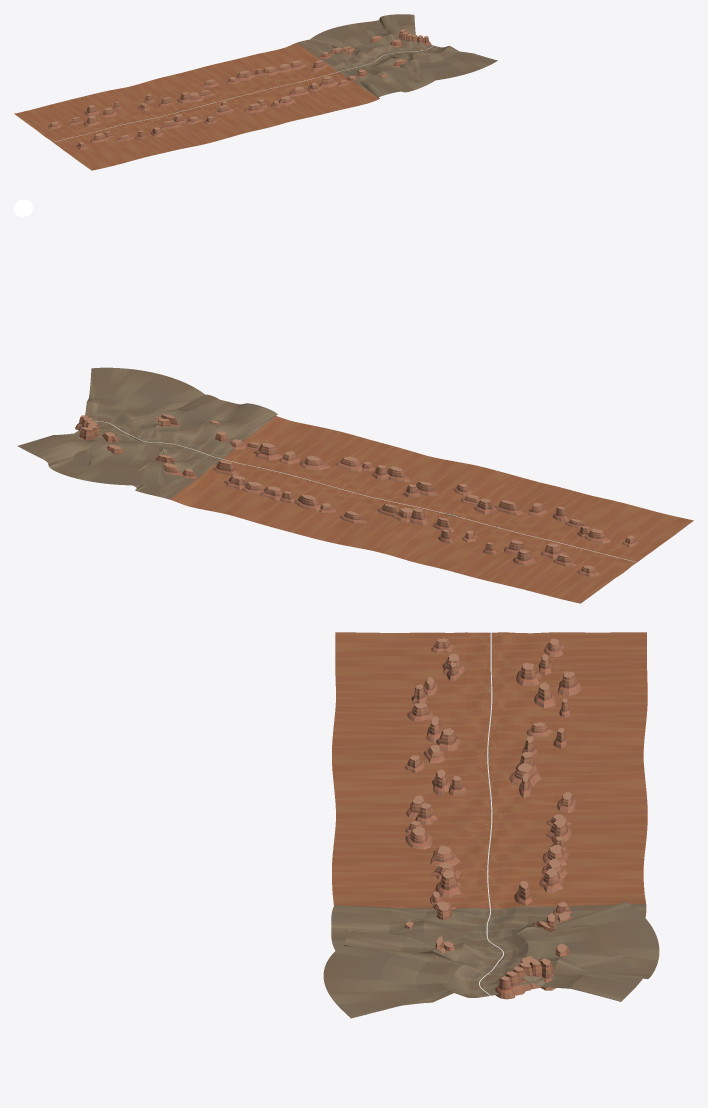
The model's file is route66.glb.
3 views of the same model, one above another, from view 1: azimuth 30°, elevation 25°; view 2: azimuth 150°, elevation 25°; view 3: azimuth 270°, elevation 25° (orthographic). The views are drawn at different scales.
Visible parts, largest first — view 1: Peaks, Land_007, Land_000, Land_006, Land_002, Land_004, Land_003, Land_001, Land_005, Land_008; view 2: Peaks, Land_007, Land_006, Land_000, Land_002, Land_004, Land_001, Land_003, Land_005, Land_008; view 3: Peaks, Land_000, Land_003, Land_001, Land_002, Land_005, Land_004, Land_007, Land_008, Land_006.
Part boxes in pixels (bbox=[...]): Peaks: bbox=[47, 29, 431, 149]; Land_007: bbox=[317, 15, 433, 92]; Land_000: bbox=[14, 103, 136, 170]; Land_006: bbox=[280, 34, 404, 104]; Land_002: bbox=[107, 81, 227, 149]; Land_004: bbox=[191, 58, 312, 126]; Land_003: bbox=[148, 70, 271, 137]; Land_001: bbox=[58, 91, 177, 159]; Land_005: bbox=[241, 49, 362, 116]; Land_008: bbox=[387, 14, 497, 81]; Peaks: bbox=[75, 413, 639, 576]; Land_007: bbox=[41, 394, 240, 487]; Land_006: bbox=[135, 403, 300, 507]; Land_000: bbox=[517, 504, 693, 603]; Land_002: bbox=[389, 471, 567, 569]; Land_004: bbox=[252, 441, 431, 540]; Land_001: bbox=[447, 489, 627, 587]; Land_003: bbox=[323, 457, 497, 554]; Land_005: bbox=[196, 423, 373, 521]; Land_008: bbox=[17, 367, 205, 457]; Peaks: bbox=[404, 638, 581, 999]; Land_000: bbox=[335, 632, 647, 675]; Land_003: bbox=[332, 761, 647, 808]; Land_001: bbox=[335, 675, 647, 721]; Land_002: bbox=[332, 716, 646, 763]; Land_005: bbox=[332, 846, 644, 895]; Land_004: bbox=[333, 805, 647, 851]; Land_007: bbox=[331, 913, 659, 979]; Land_008: bbox=[323, 945, 642, 1018]; Land_006: bbox=[331, 890, 646, 933].
Size of the model in its own units: 11487 by 860 by 5683.
